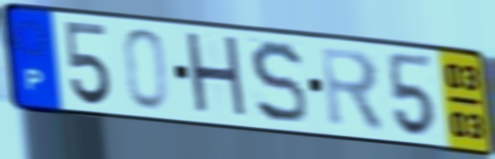0: (119, 25, 174, 115)
5: (384, 49, 440, 139), (61, 19, 113, 109)
H: (182, 29, 252, 124)
R: (318, 43, 389, 136)
S: (247, 38, 311, 128)
